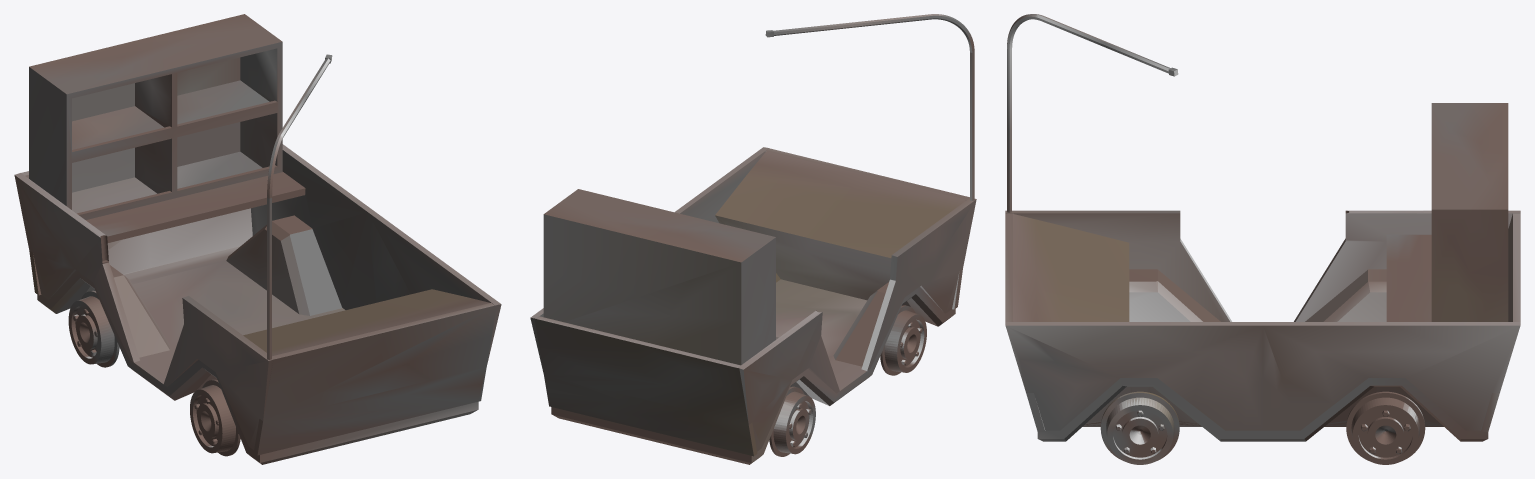
File: cart_color.glb
The picture shows the model from 3 angles, left to right: view 1: azimuth 30°, elevation 25°; view 2: azimuth 150°, elevation 25°; view 3: azimuth 270°, elevation 25°; orthographic projection. The views are drawn at different scales.
Visible parts, largest first — view 1: Base Wagonnet A.1; view 2: Base Wagonnet A.1; view 3: Base Wagonnet A.1.
Part boxes in pixels (<box>): Base Wagonnet A.1: <box>14,14,501,464</box>; Base Wagonnet A.1: <box>530,14,976,464</box>; Base Wagonnet A.1: <box>1005,14,1520,464</box>.
Bounding box in the file's own units: 1.81 × 2.64 × 3.43.
